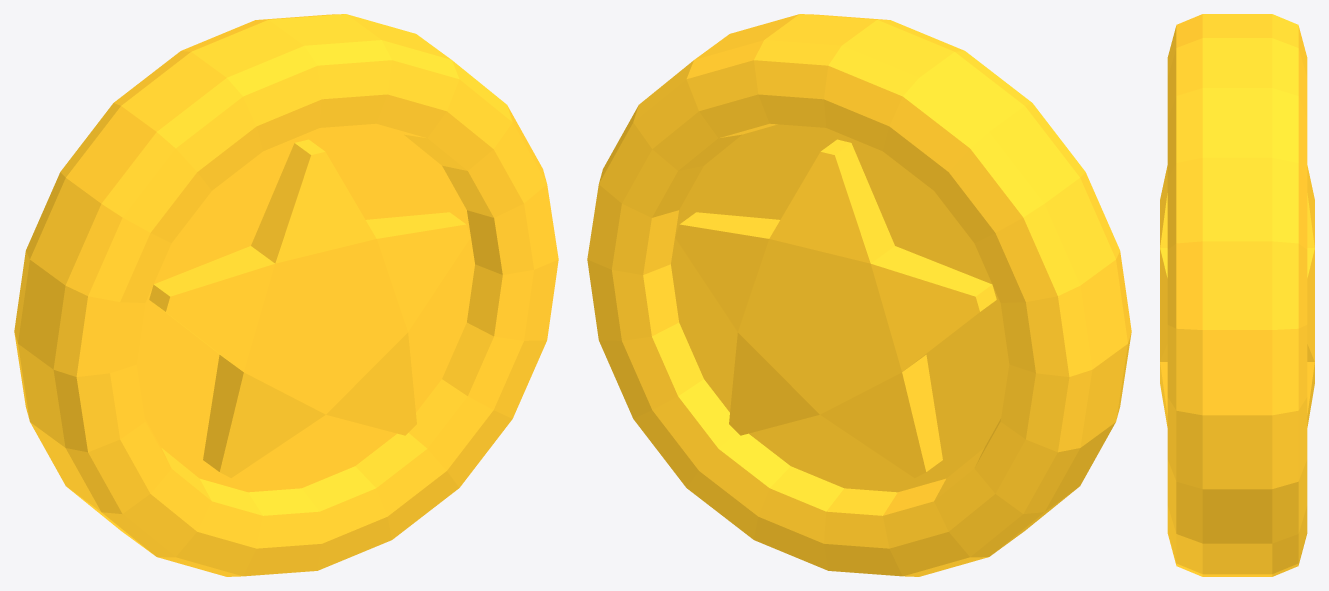
File: coin_star.glb
The picture shows the model from 3 angles, left to right: view 1: azimuth 30°, elevation 25°; view 2: azimuth 150°, elevation 25°; view 3: azimuth 270°, elevation 25°; orthographic projection. The views are drawn at different scales.
Parts seen in each view (by area): view 1: Coin_Star; view 2: Coin_Star; view 3: Coin_Star.
Boxes of the visible parts, bbox=[...] form: Coin_Star: bbox=[14, 14, 558, 576]; Coin_Star: bbox=[587, 14, 1131, 576]; Coin_Star: bbox=[1160, 14, 1314, 576].
Size of the model in its own units: 73.67 by 73.77 by 20.11.
